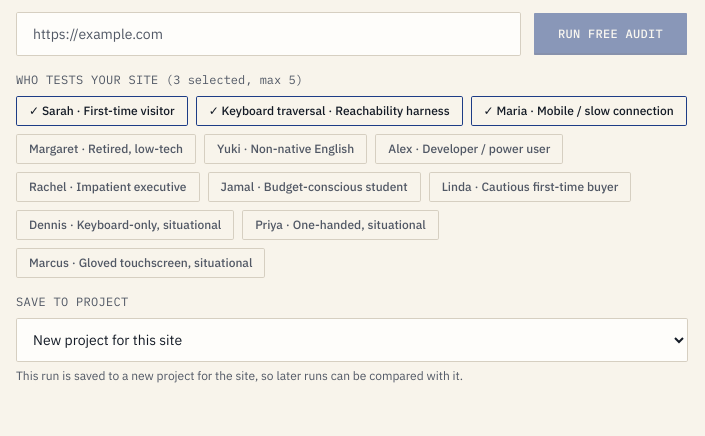
Test: AuditForm project picker (dashboard) › shows the server's project-limit message as an alert
The image size is (705, 436).
Type "https://new.test/" into the field named "Website URL to audit".
click(268, 34); type("https://new.test/")  # box [16,12,521,56]
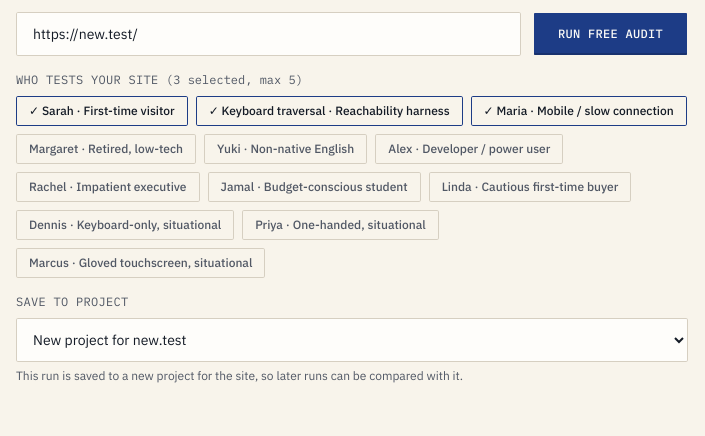
Submit the form named "Website URL to audit", box [16,12,688,56]
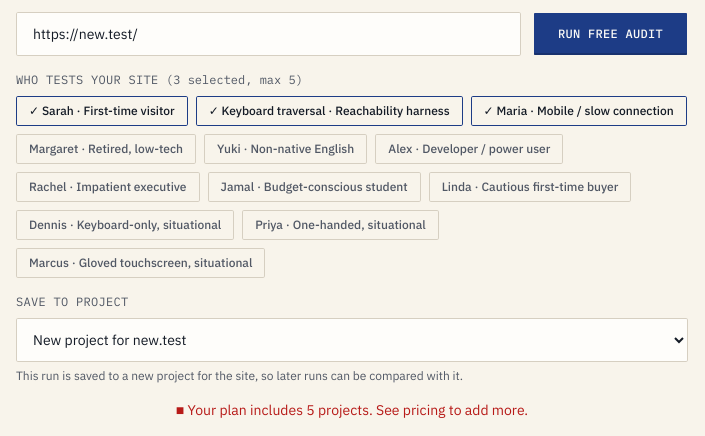
Expected: the message shows "Your plan includes 5 projects", [188,401,528,419]
